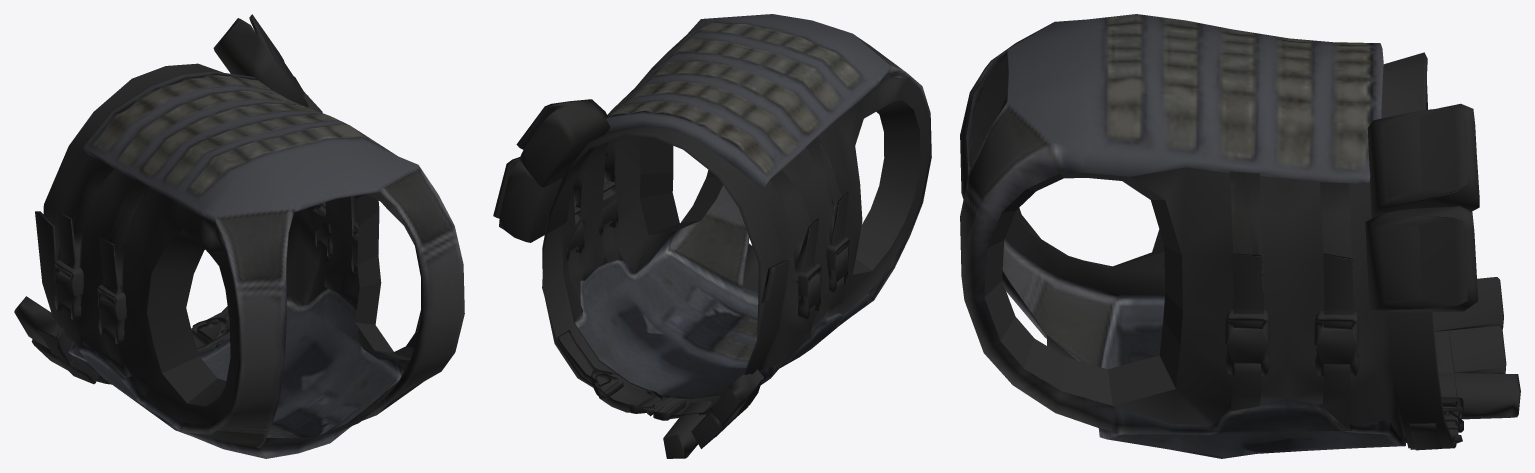
The model's file is fangdang.fbx.
3 renders of one model, left to right at view 1: azimuth 30°, elevation 25°; view 2: azimuth 150°, elevation 25°; view 3: azimuth 270°, elevation 25°, orthographic. The views are drawn at different scales.
Visible parts, largest first — view 1: Soldier_body; view 2: Soldier_body; view 3: Soldier_body.
Part boxes in pixels (<box>): Soldier_body: <box>14,14,464,458</box>; Soldier_body: <box>493,14,931,458</box>; Soldier_body: <box>960,14,1520,458</box>.
Size of the model in its own units: 62.05 by 66 by 83.54.
